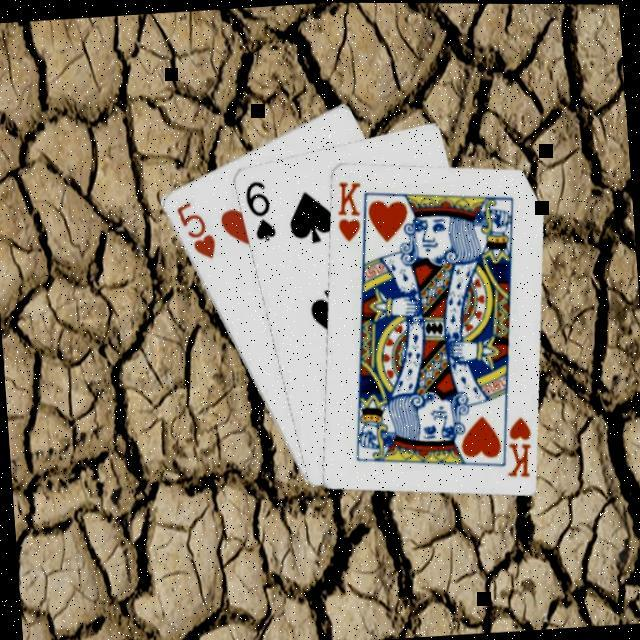5H: (170, 193, 217, 260)
6S: (237, 174, 276, 242)
KH: (497, 409, 534, 477), (328, 175, 364, 242)
